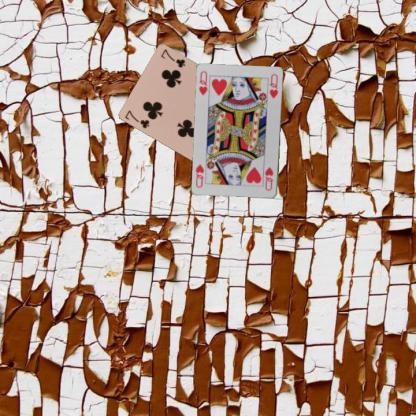7c: (122, 107, 151, 130)
Qh: (262, 164, 274, 192), (196, 69, 208, 96)
